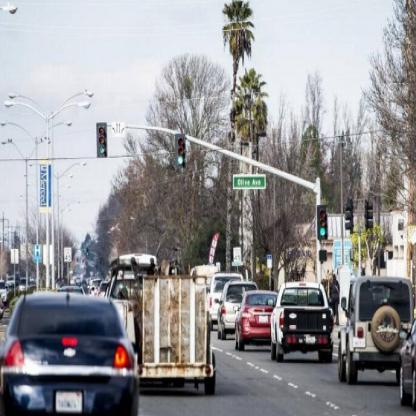green: (317, 204, 328, 240), (175, 134, 186, 169)
left-green: (96, 122, 107, 159)
